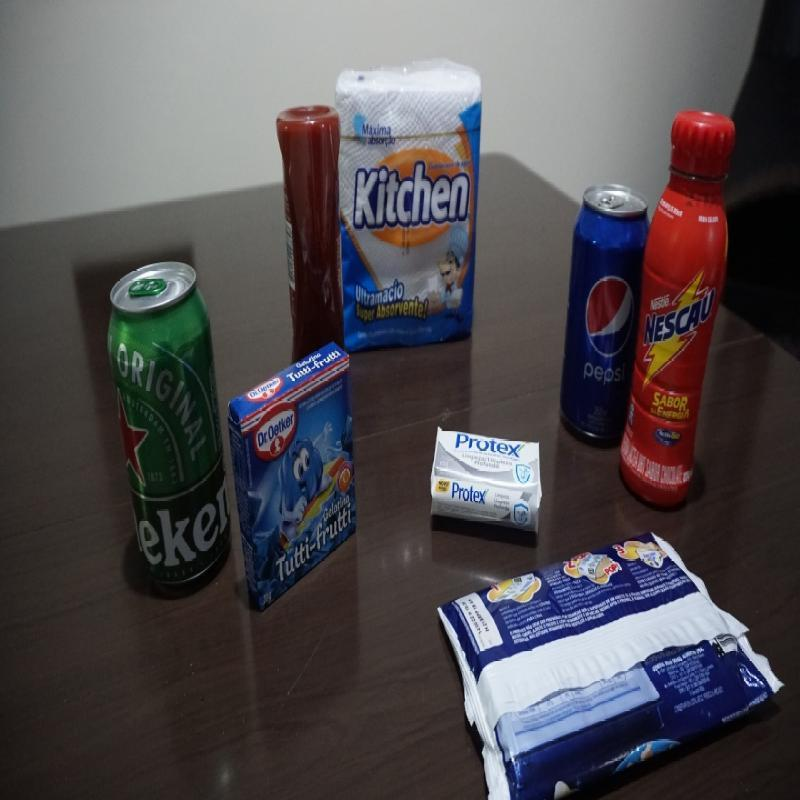Beer can: (105, 259, 233, 594)
Chocolate Milk: (618, 105, 736, 508)
Gelatine: (226, 342, 358, 612)
Ketchup: (277, 104, 348, 368)
Napkin: (331, 59, 483, 358)
Popcorn: (434, 533, 786, 796)
Soap: (428, 424, 544, 540)
Soda can: (559, 182, 642, 446)
